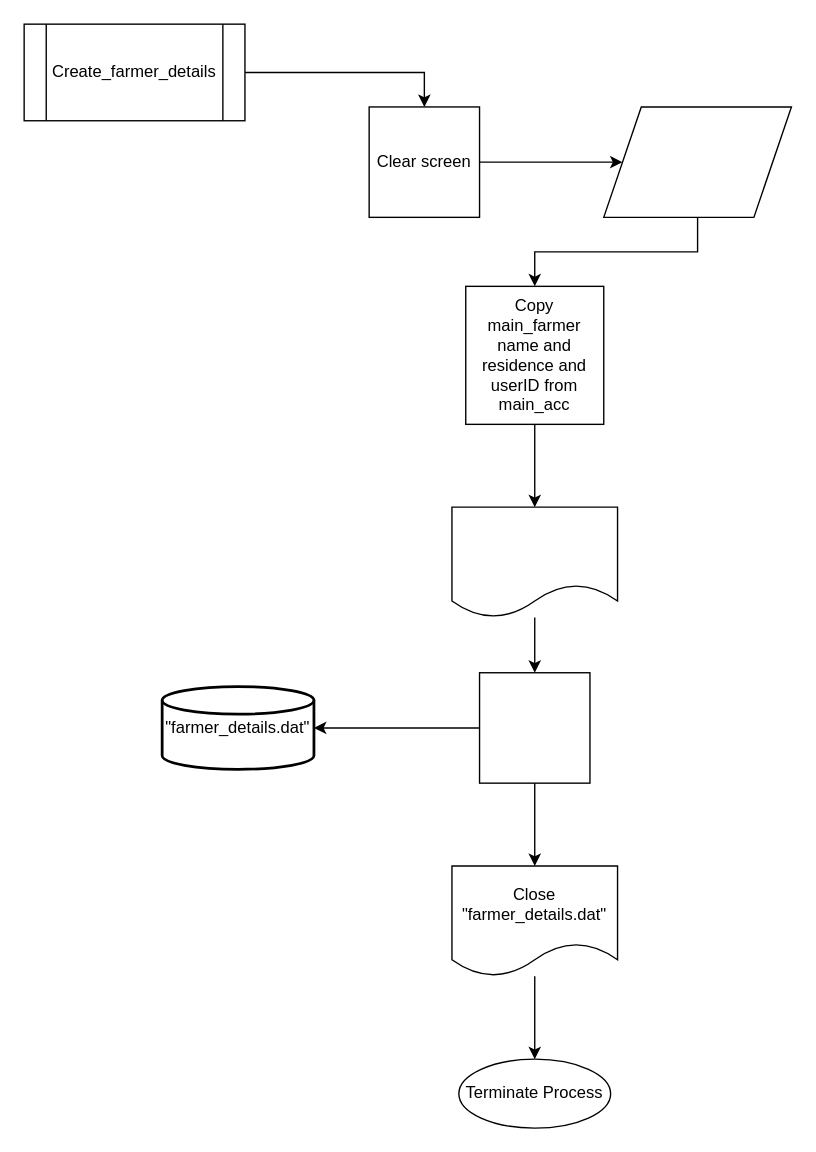
Image size: 816x1152. Some labels were removed from this diagram. Each missing label, with the box of its shape:
Open "farmer_details.dat": (451, 506, 618, 618)
Request Crop grown from farmer to main_farmer crop: (602, 106, 791, 217)
Write main_farmer details into FILE: (478, 671, 590, 783)
